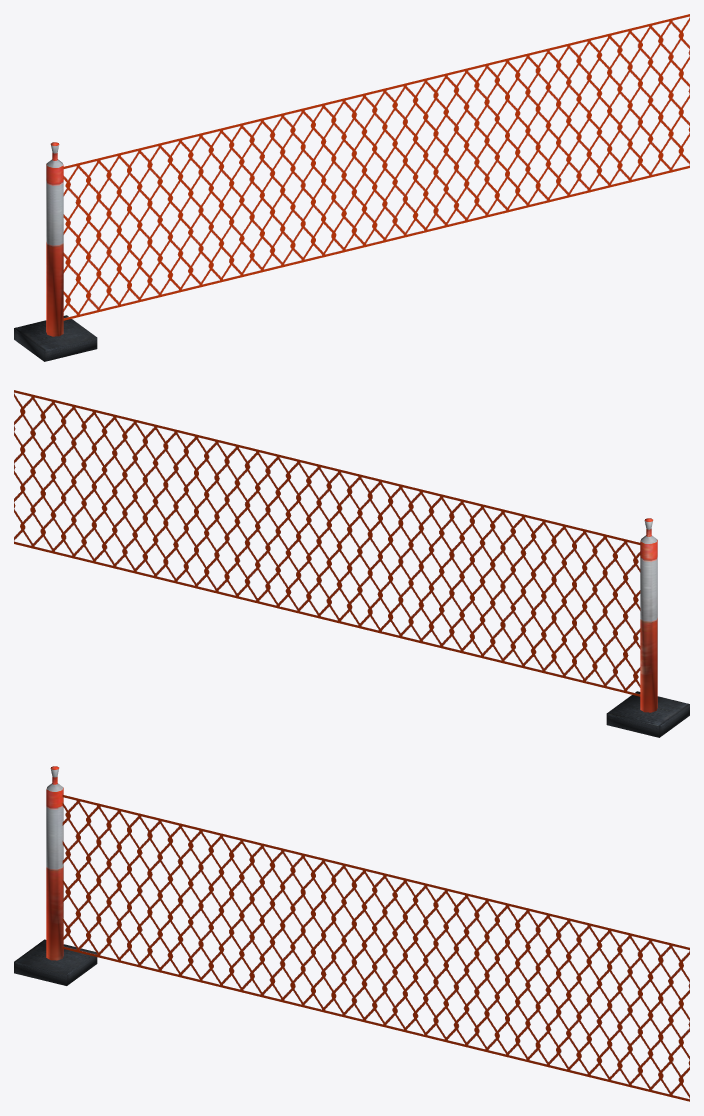
The model's file is orangeFence_flat.fbx.
3 renders of one model, top to bottom at view 1: azimuth 30°, elevation 25°; view 2: azimuth 150°, elevation 25°; view 3: azimuth 330°, elevation 25°, orthographic.
Parts seen in each view (by area): view 1: Plane01, Duplicate01, Cylinder02, Box03; view 2: Plane01, Duplicate01, Cylinder02, Box03; view 3: Plane01, Duplicate01, Cylinder02, Box03.
Part boxes in pixels (bbox=[...]): Plane01: bbox=[63, 14, 689, 320]; Duplicate01: bbox=[63, 15, 689, 314]; Cylinder02: bbox=[46, 142, 63, 336]; Box03: bbox=[14, 315, 97, 361]; Plane01: bbox=[14, 390, 640, 696]; Duplicate01: bbox=[14, 391, 640, 690]; Cylinder02: bbox=[640, 518, 657, 712]; Box03: bbox=[606, 691, 689, 737]; Plane01: bbox=[62, 795, 689, 1101]; Duplicate01: bbox=[63, 796, 689, 1099]; Cylinder02: bbox=[46, 766, 63, 960]; Box03: bbox=[14, 939, 97, 985].
Bounding box in the file's own units: 375 × 109 × 30.
